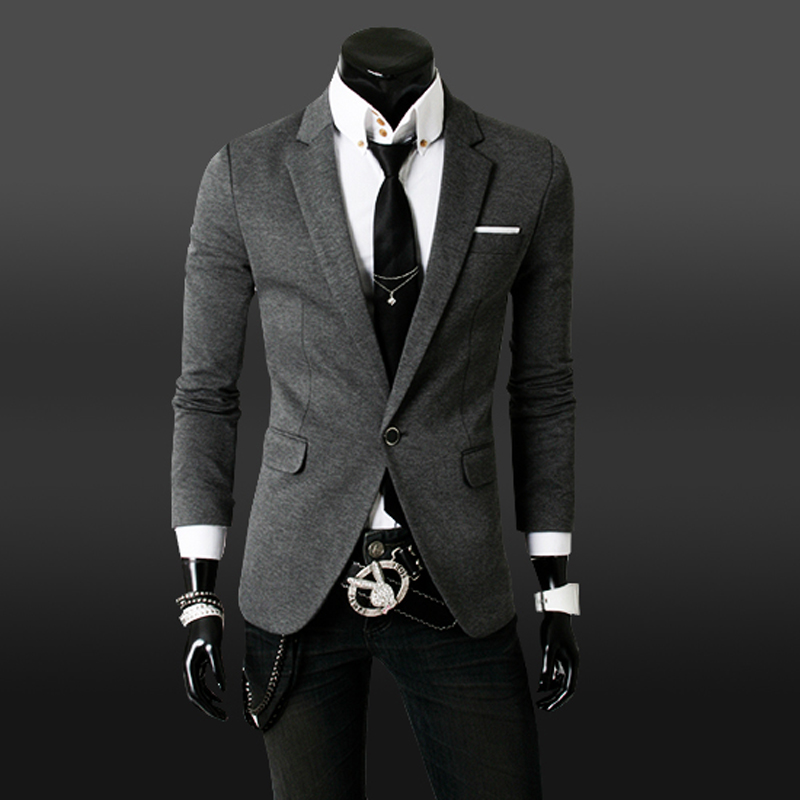F_M_suit jacket: (157, 73, 584, 644)
F_tie: (356, 134, 429, 369)
